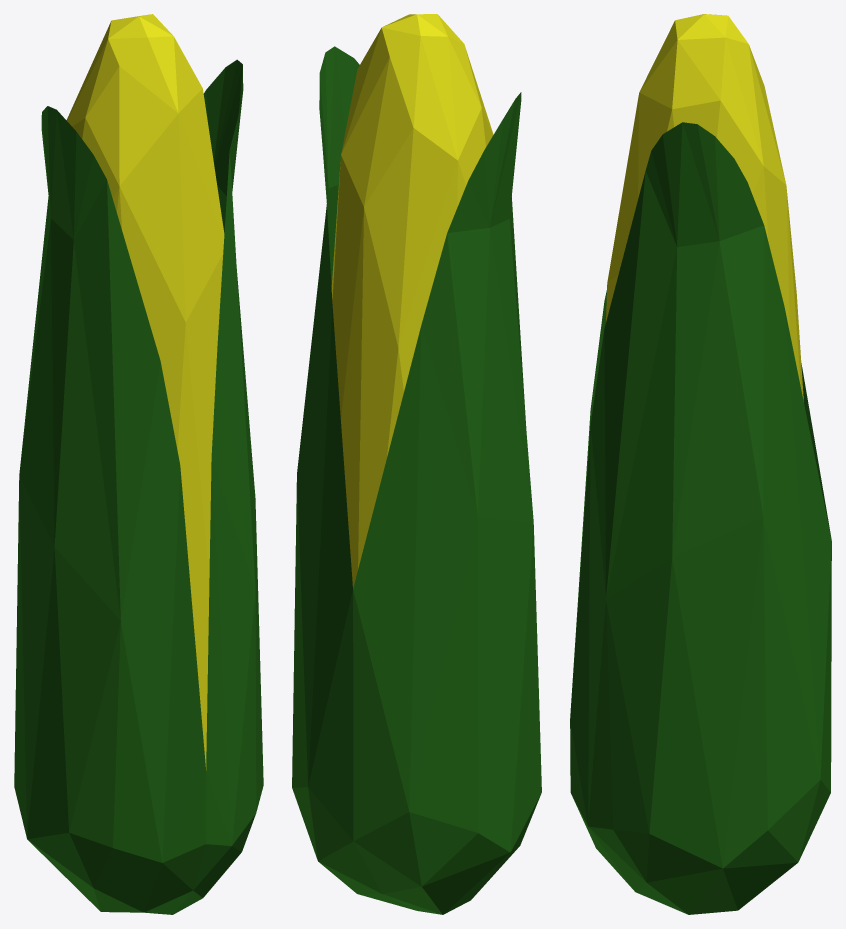
File: Corn.fbx
3 renders of one model, left to right at view 1: azimuth 30°, elevation 25°; view 2: azimuth 150°, elevation 25°; view 3: azimuth 270°, elevation 25°, orthographic.
Visible parts, largest first — view 1: Sphere.001, Cylinder, Sphere; view 2: Sphere.001, Cylinder, Sphere; view 3: Sphere, Cylinder, Sphere.001.
Part boxes in pixels (x1,y1,x2,y2): Sphere.001: (14, 106, 205, 914); Cylinder: (66, 14, 224, 770); Sphere: (173, 59, 263, 914); Sphere.001: (353, 92, 541, 914); Cylinder: (331, 14, 493, 588); Sphere: (292, 46, 415, 910); Sphere: (570, 122, 831, 914); Cylinder: (606, 14, 803, 401); Sphere.001: (570, 290, 830, 708).
Size of the model in its own units: 204 by 849 by 225.
